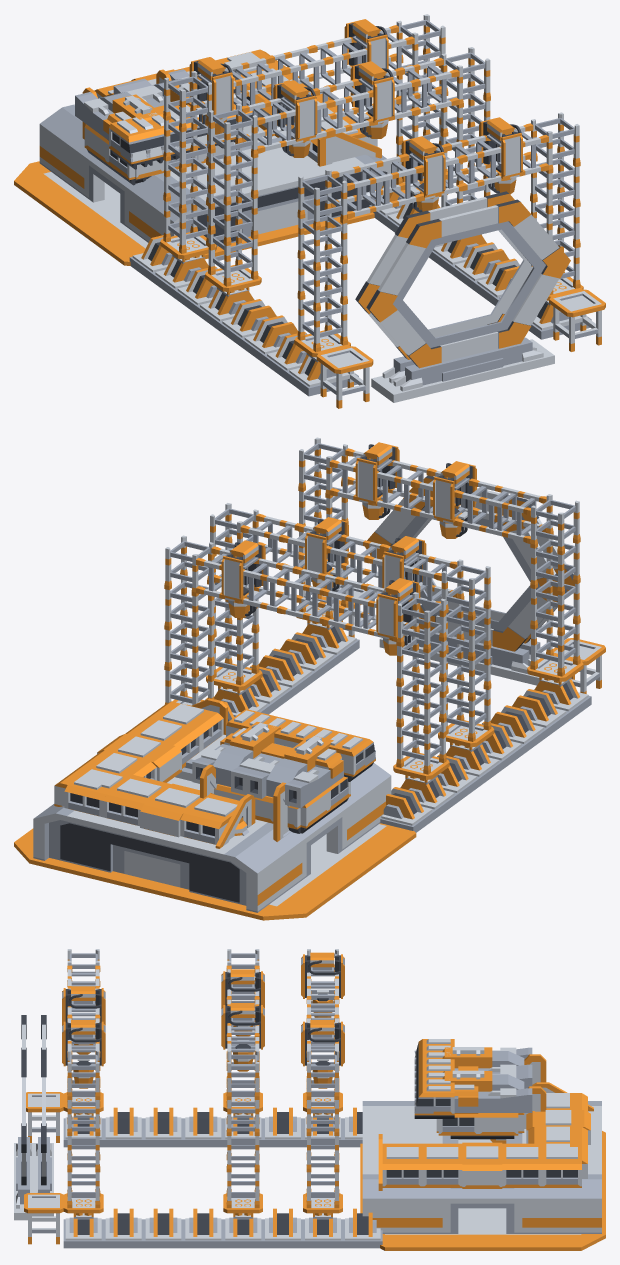
The model's file is chantier_moyen.glb.
The picture shows the model from 3 angles, top to bottom: view 1: azimuth 30°, elevation 25°; view 2: azimuth 150°, elevation 25°; view 3: azimuth 270°, elevation 25°; orthographic projection. The views are drawn at different scales.
Visible parts, largest first — view 1: mergedBlocks(Clone); view 2: mergedBlocks(Clone); view 3: mergedBlocks(Clone).
Boxes of the visible parts, box(x1,y1,x2,y2) form: mergedBlocks(Clone): box(14, 14, 605, 408); mergedBlocks(Clone): box(14, 437, 605, 920); mergedBlocks(Clone): box(14, 949, 605, 1250).
Size of the model in its own units: 7.56 by 5.3 by 14.85.
Materials: 1 (1 with a texture image).
